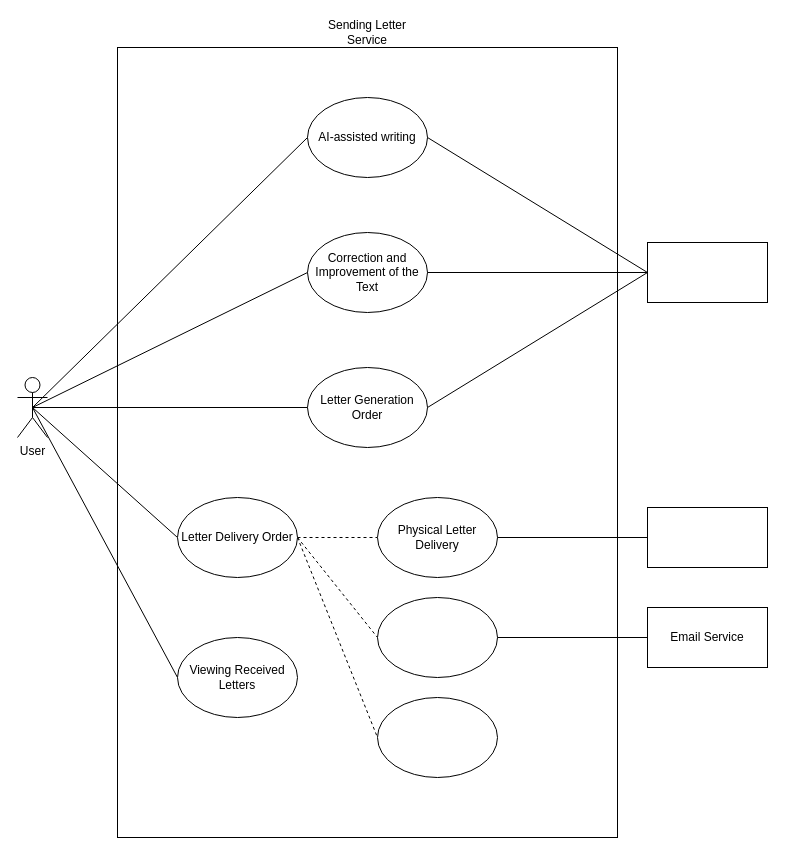
This 785x855 diagram has some shape labels left out. The shapes that lost their labels are listed below. From the top down, each one's centre as x and y in pixels, then its label:
At point 707,272: "Artificial Intelligence Engine".
At point 707,537: "Post Company".
At point 437,637: "Delivery by Email".
At point 437,737: "Delivery via the System".
